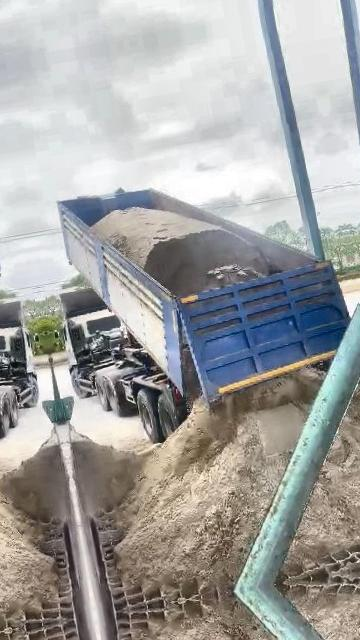sand: (114, 373, 320, 595), (92, 207, 279, 295), (284, 390, 360, 574), (73, 435, 158, 515), (182, 345, 202, 405)
